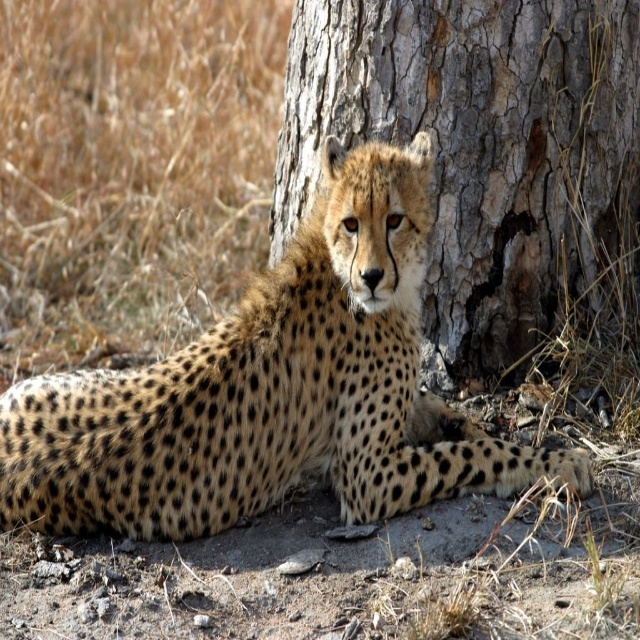Cheetah: (0, 130, 598, 545)
